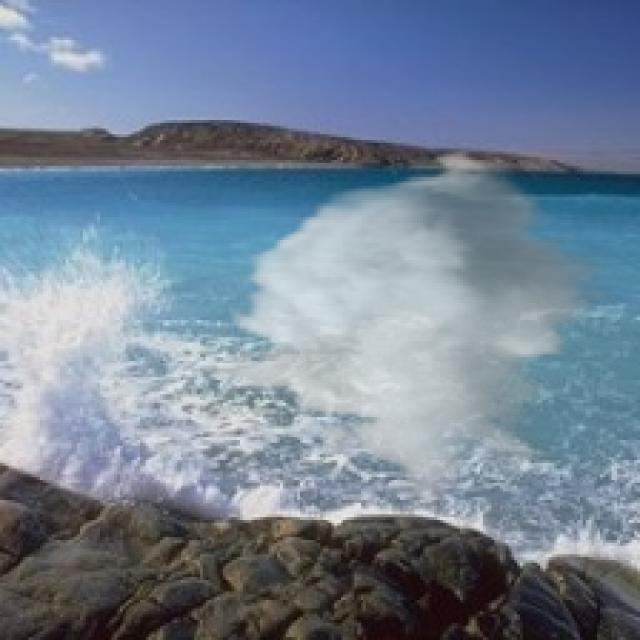smoke: (200, 145, 611, 506)
